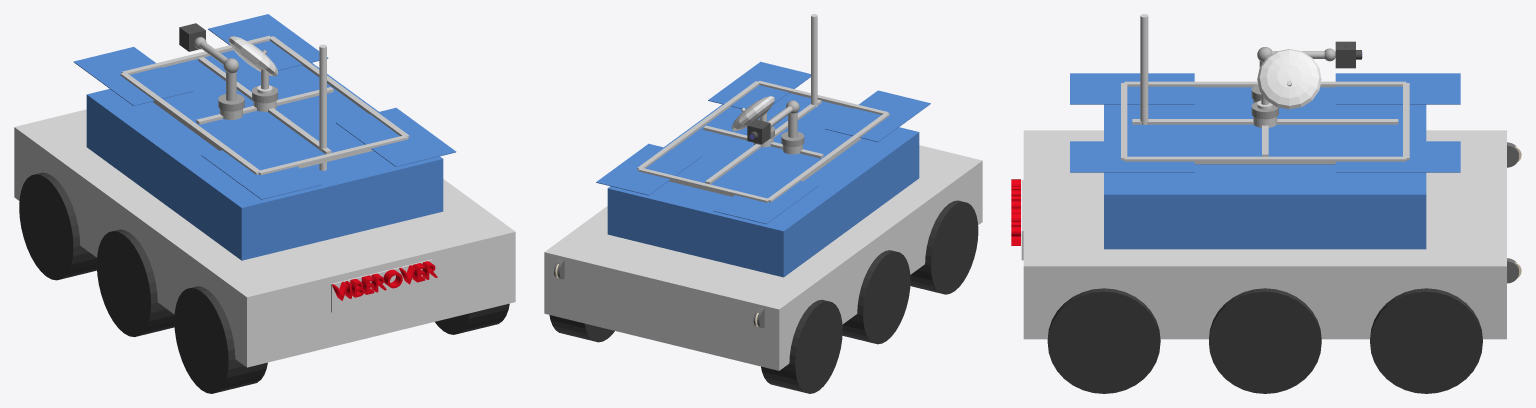
The model's file is viberover.glb.
3 views of the same model, side by side, from view 1: azimuth 30°, elevation 25°; view 2: azimuth 150°, elevation 25°; view 3: azimuth 270°, elevation 25° (orthographic). The views are drawn at different scales.
Parts seen in each view (by area): view 1: RoverBody, SolarPanels, ExtendedPanel, RearLeftWheel, MiddleLeftWheel, FrontLeftWheel, PanelCell1, PanelCell3, PanelCell2, PanelCell4, ViberoverSign, LabelPlate (+10 smaller); view 2: RoverBody, SolarPanels, ExtendedPanel, FrontLeftWheel, MiddleLeftWheel, RearLeftWheel, PanelCell2, PanelCell1, PanelCell4, PanelCell3, PanelFrameLeft, FrontRightWheel (+8 smaller); view 3: RoverBody, SolarPanels, ExtendedPanel, RearRightWheel, FrontRightWheel, MiddleRightWheel, PanelCell4, PanelCell2, PanelCell3, PanelCell1, AntennaDish, PanelFrameRight (+7 smaller).
Boxes of the visible parts, x1,y1,x2,y2 form: RoverBody: (14,109,515,367); SolarPanels: (86,63,443,260); ExtendedPanel: (163,50,368,162); RearLeftWheel: (174,286,267,393); MiddleLeftWheel: (96,229,174,336); FrontLeftWheel: (19,172,96,280); PanelCell1: (201,140,321,199); PanelCell3: (336,107,456,166); PanelCell2: (73,47,193,105); PanelCell4: (208,14,328,70); ViberoverSign: (332,261,437,300); LabelPlate: (331,259,432,312); RoverBody: (544,145,982,370); SolarPanels: (607,104,919,277); ExtendedPanel: (672,93,852,191); FrontLeftWheel: (761,299,842,393); MiddleLeftWheel: (842,250,910,344); RearLeftWheel: (910,200,978,294); PanelCell2: (713,172,818,224); PanelCell1: (825,90,930,142); PanelCell4: (596,143,701,195); PanelCell3: (708,61,810,109); PanelFrameLeft: (768,112,889,202); FrontRightWheel: (549,315,614,342); RoverBody: (1023,130,1506,339); SolarPanels: (1104,104,1426,249); ExtendedPanel: (1127,87,1402,164); RearRightWheel: (1047,288,1160,393); FrontRightWheel: (1370,288,1482,393); MiddleRightWheel: (1209,288,1321,393); PanelCell4: (1335,141,1460,172); PanelCell2: (1335,73,1460,104); PanelCell3: (1070,141,1194,172); PanelCell1: (1070,73,1194,104); AntennaDish: (1257,49,1321,109); PanelFrameRight: (1124,156,1406,164).
Size of the model in its own units: 4.2 by 4.2 by 6.33.
